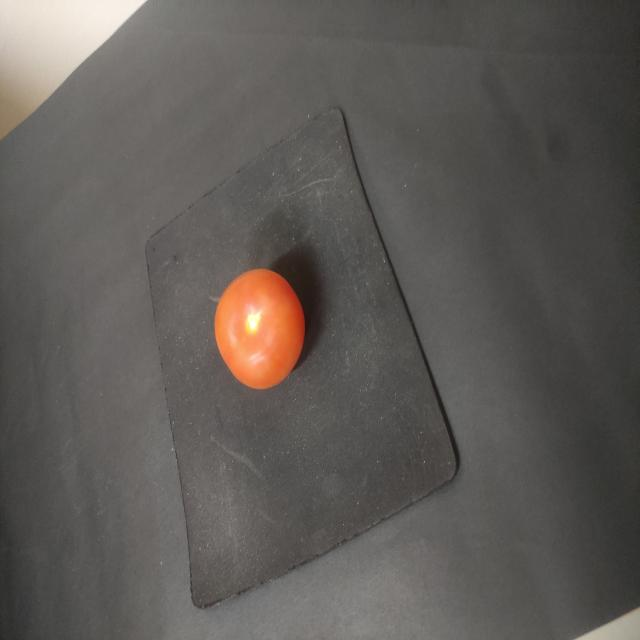sari: (212, 264, 316, 400)
